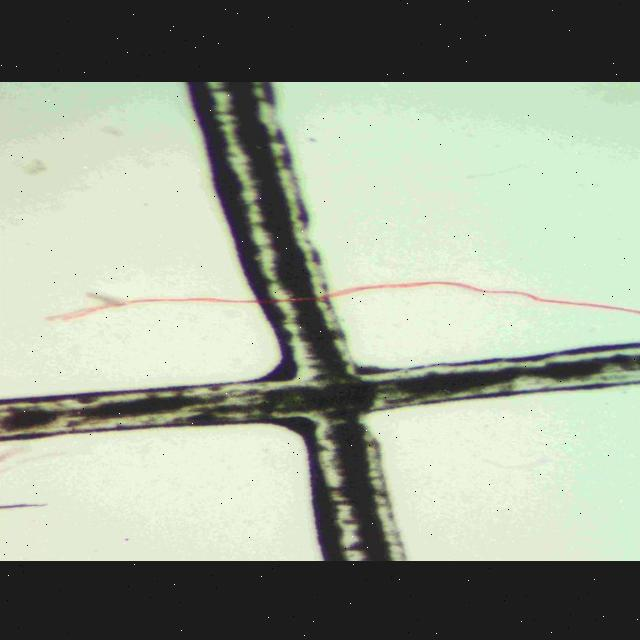Fibre: (36, 268, 640, 342)
